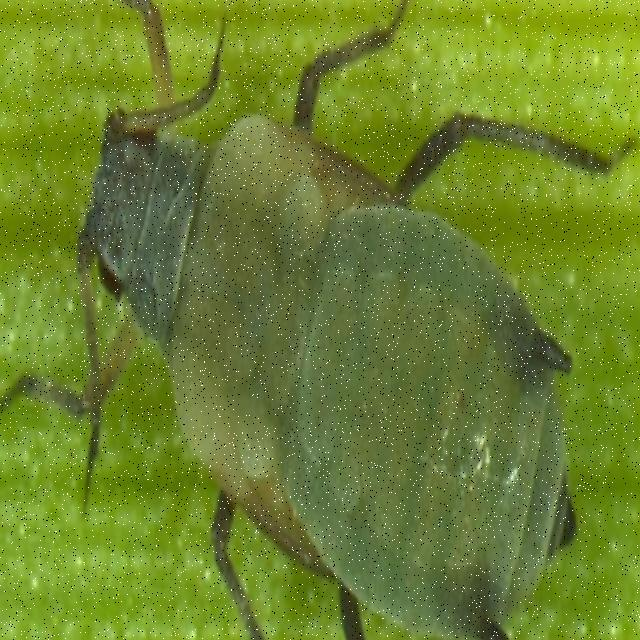Aphids: (34, 71, 596, 600)
